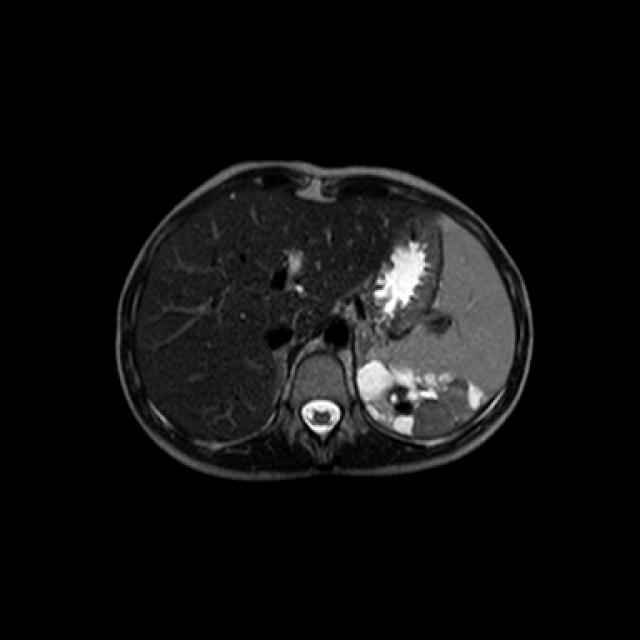sol: (357, 359, 485, 437)
